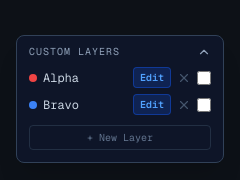
CustomLayerPanel › hides confirm on cancel click
The width and height of the screenshot is (240, 180).
Click the button with test id "layer-delete-a" at point(184, 78), box [177, 70, 191, 84]
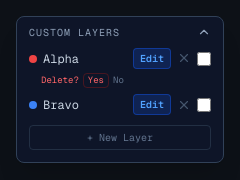
Now the button with test id "layer-delete-confirm-a" is shown, box [83, 72, 109, 88]
Click the button with test id "layer-delete-cancel-a" at point(118, 80), box [113, 74, 124, 87]
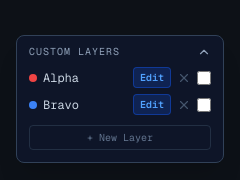
Now the button with test id "layer-delete-confirm-a" is gone
